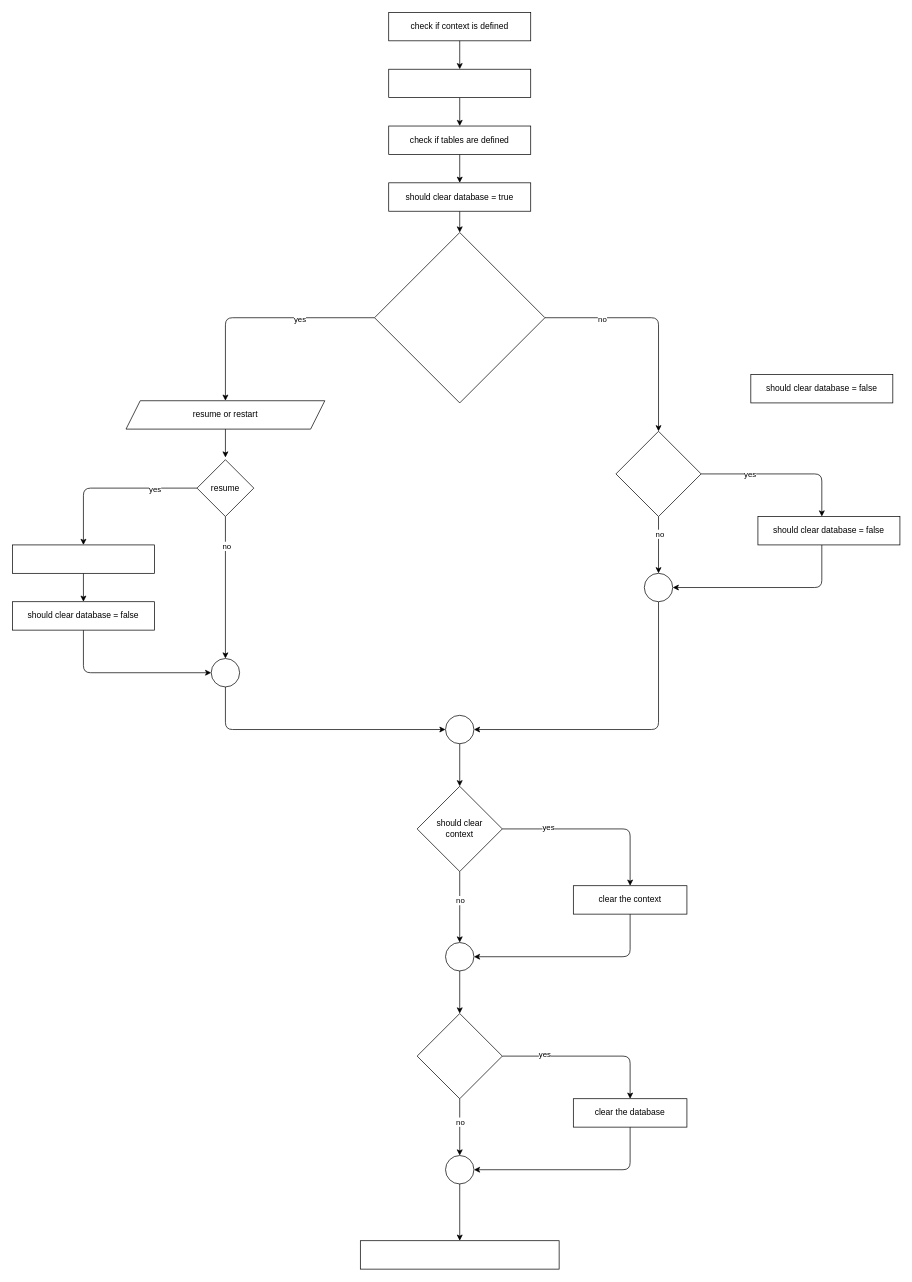
Some shapes in this 912 by 1282 pixel diagram are drawn without their labels. Each missing label, with the centre of its shape:
"current context = context ?? init context" belongs at (x=459, y=1254).
"redis is enabled AND tables are defined AND context is defined" belongs at (x=459, y=317).
"should clear context = false" belongs at (x=83, y=558).
"should clear context = true" belongs at (x=459, y=83).
"should clear database" belongs at (x=459, y=1056).
"tables are not defined" belongs at (x=658, y=474).
